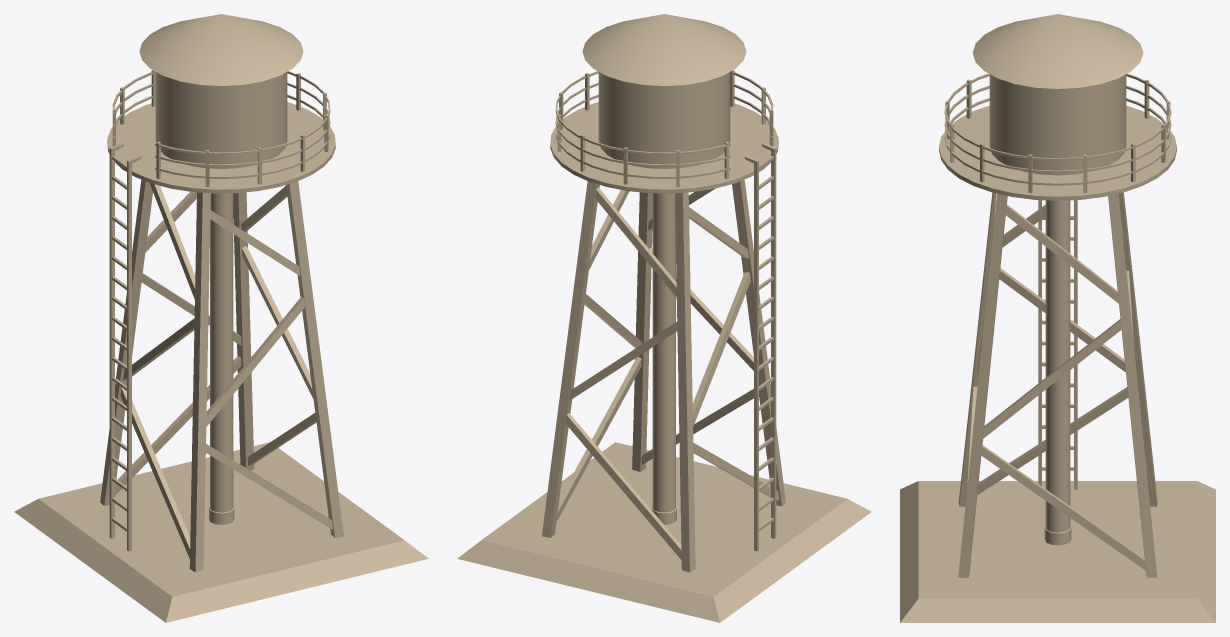
The model's file is watertank.obj.
3 views of the same model, side by side, from view 1: azimuth 30°, elevation 25°; view 2: azimuth 150°, elevation 25°; view 3: azimuth 270°, elevation 25° (orthographic). The views are drawn at different scales.
Visible parts, largest first — view 1: water_tank; view 2: water_tank; view 3: water_tank.
Boxes of the visible parts, left/top/right/bottom form: water_tank: left=14, top=14, right=428, bottom=622; water_tank: left=457, top=14, right=871, bottom=622; water_tank: left=900, top=14, right=1215, bottom=622.
Size of the model in its own units: 9.83 by 18.61 by 9.83.
